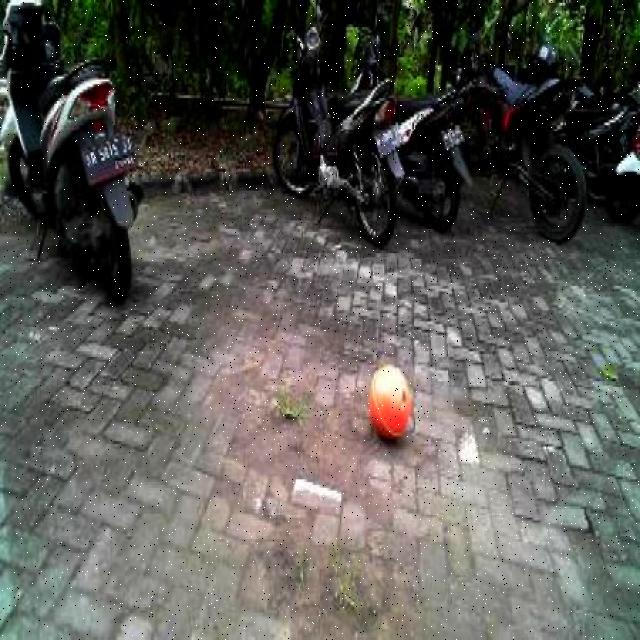buoy: (360, 352, 418, 457)
